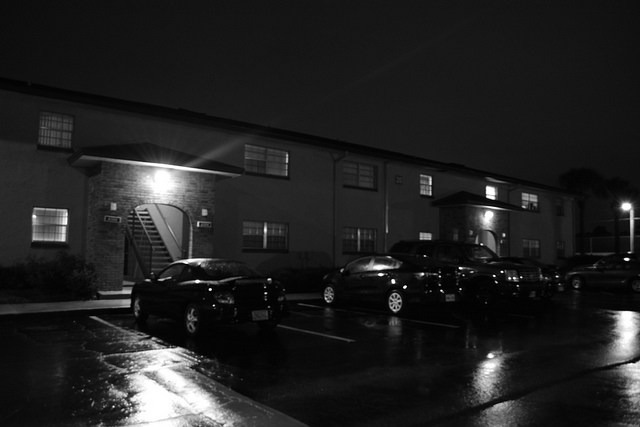car: (126, 257, 292, 337)
